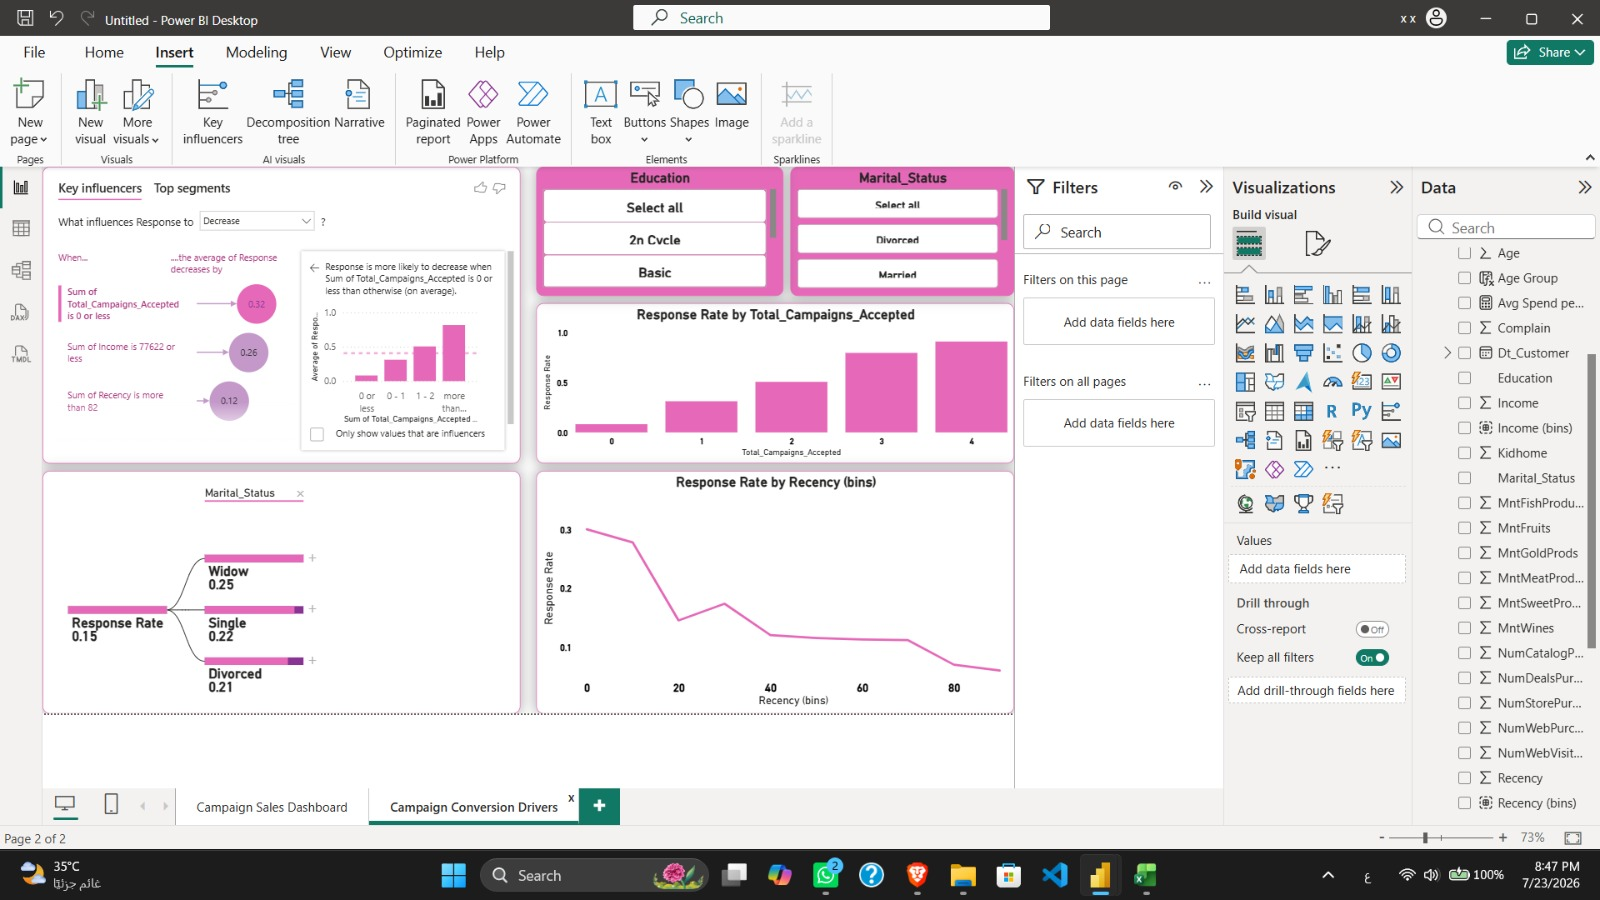

What the dashboard file says about the page in this screenshot:
{"tool":"powerbi","page":{"name":"Campaign Conversion Drivers","canvas":[1280,720],"ordinal":1},"visuals":[{"type":"keyDriversVisual","fields":{"Target":["marketing_campaign_cleaned.Response"],"ExplainBy":["Sum(marketing_campaign_cleaned.Total_Campaigns_Accepted)","Sum(marketing_campaign_cleaned.Recency)","Sum(marketing_campaign_cleaned.Income)","marketing_campaign_cleaned.Education","Sum(marketing_campaign_cleaned.Total_Kids)"]},"box":[0,0,629.8,391.1],"z":0},{"type":"clusteredColumnChart","fields":{"Category":["marketing_campaign_cleaned.Total_Campaigns_Accepted"],"Y":["marketing_campaign_cleaned.Response Rate"]},"box":[650.4,179.8,629.8,211.3],"z":1000},{"type":"lineChart","fields":{"Category":["marketing_campaign_cleaned.Recency (bins)"],"Y":["marketing_campaign_cleaned.Response Rate"]},"box":[650.4,400.7,629.8,319.7],"z":2000},{"type":"decompositionTreeVisual","fields":{"Analyze":["marketing_campaign_cleaned.Response Rate"],"ExplainBy":["marketing_campaign_cleaned.Marital_Status","marketing_campaign_cleaned.Education","marketing_campaign_cleaned.Total_Kids"]},"box":[0,400.7,629.8,319.7],"z":3000},{"type":"advancedSlicerVisual","fields":{"Values":["marketing_campaign_cleaned.Marital_Status"]},"box":[985.3,0,295,170.2],"z":4000},{"type":"advancedSlicerVisual","fields":{"Values":["marketing_campaign_cleaned.Education"]},"box":[650.4,0,325.2,170.2],"z":5000}]}

Visuals, with their boxes on the page's 1280x720 design canvas (x1, y1, x2, y2). These are canvas units, not pixel positions in the 1600x900 screenshot, which may show the page scaled, cropped or inside an application window:
keyDriversVisual - marketing_campaign_cleaned.Response x Sum(marketing_campaign_cleaned.Total_Campaigns_Accepted): Rect(0, 0, 630, 391)
clusteredColumnChart - marketing_campaign_cleaned.Total_Campaigns_Accepted x marketing_campaign_cleaned.Response Rate: Rect(650, 180, 1280, 391)
lineChart - marketing_campaign_cleaned.Recency (bins) x marketing_campaign_cleaned.Response Rate: Rect(650, 401, 1280, 720)
decompositionTreeVisual - marketing_campaign_cleaned.Response Rate x marketing_campaign_cleaned.Marital_Status: Rect(0, 401, 630, 720)
advancedSlicerVisual - marketing_campaign_cleaned.Marital_Status: Rect(985, 0, 1280, 170)
advancedSlicerVisual - marketing_campaign_cleaned.Education: Rect(650, 0, 976, 170)
